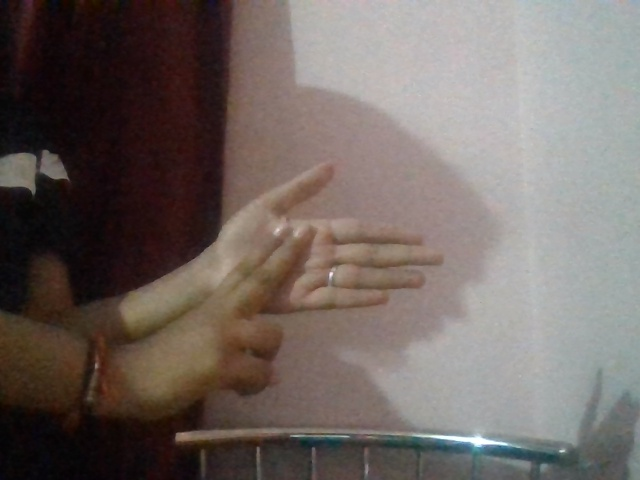N: (78, 150, 488, 447)
